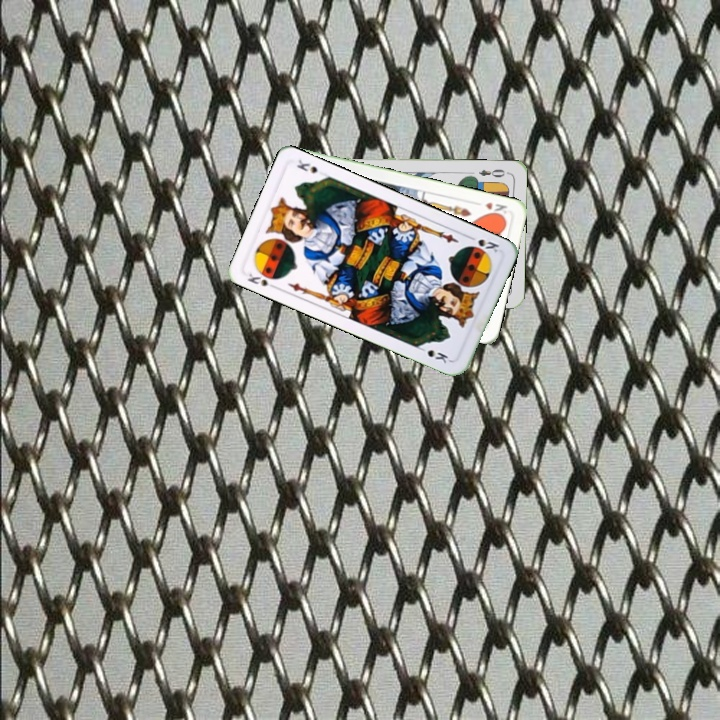EO: (475, 165, 508, 180)
HK: (481, 198, 510, 220)
SK: (463, 231, 502, 256), (243, 269, 280, 292)
